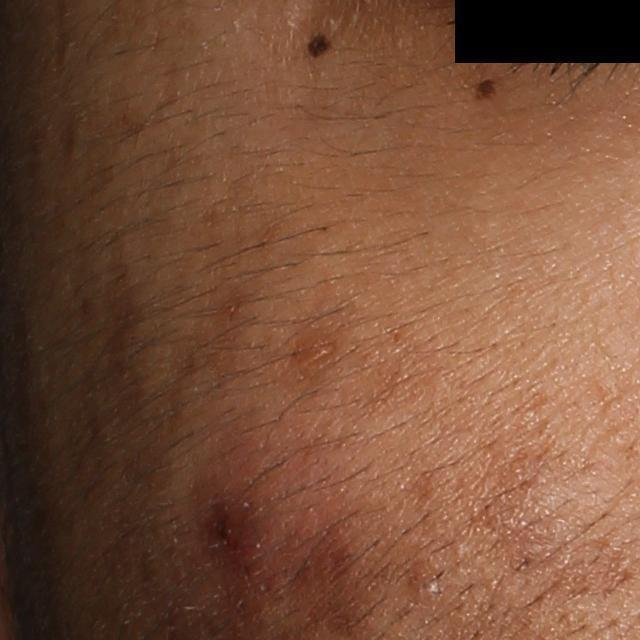comedo: (413, 576, 442, 599)
nevus: (303, 30, 335, 59), (472, 77, 499, 103)
